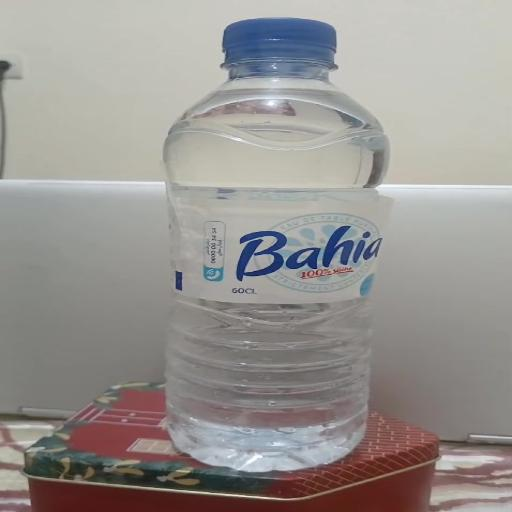bouteille conformite: (144, 16, 382, 109)
